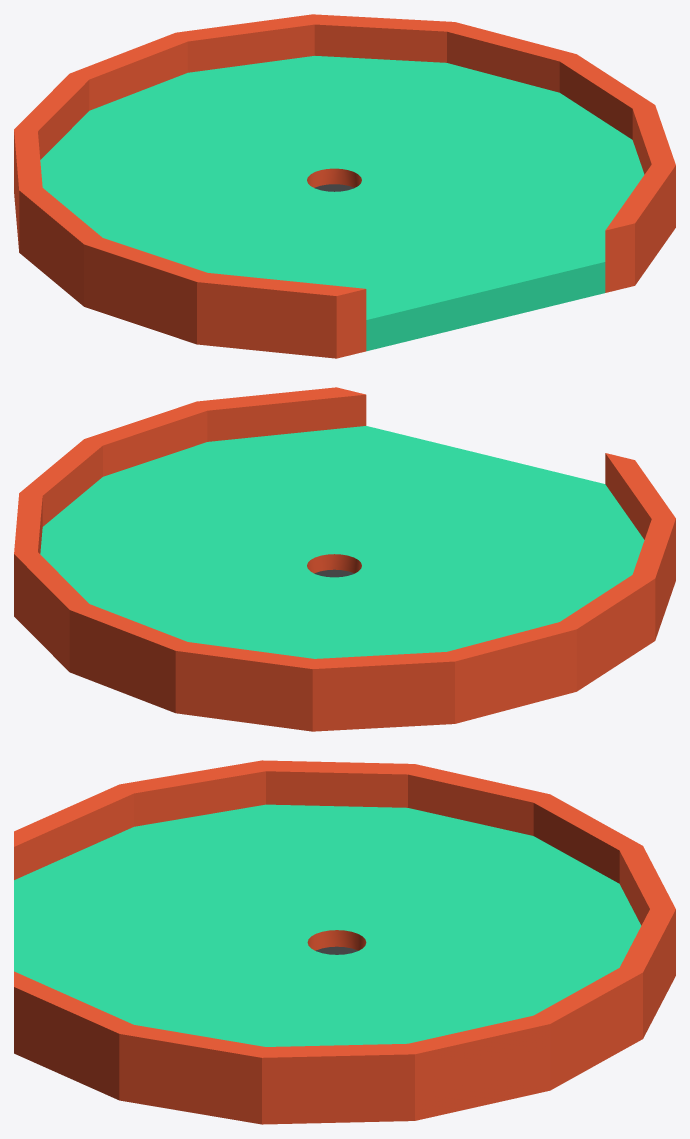
The model's file is hole_big.fbx.
3 renders of one model, top to bottom at view 1: azimuth 30°, elevation 25°; view 2: azimuth 150°, elevation 25°; view 3: azimuth 270°, elevation 25°, orthographic. The views are drawn at different scales.
Parts seen in each view (by area): view 1: end_round_hole_large_5; view 2: end_round_hole_large_5; view 3: end_round_hole_large_5.
Part boxes in pixels (left/top/right/bottom): end_round_hole_large_5: left=14, top=14, right=675, bottom=358; end_round_hole_large_5: left=14, top=387, right=675, bottom=731; end_round_hole_large_5: left=14, top=760, right=675, bottom=1124.
Size of the model in its own units: 19.13 by 2 by 18.
